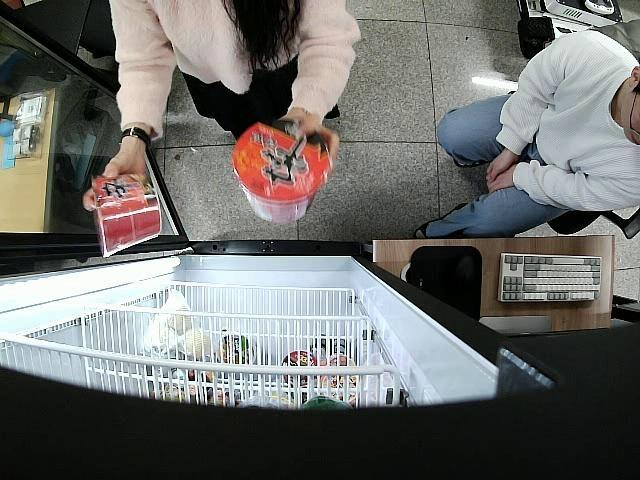01_ShinRamen_L: (232, 120, 334, 226), (91, 174, 162, 258)
